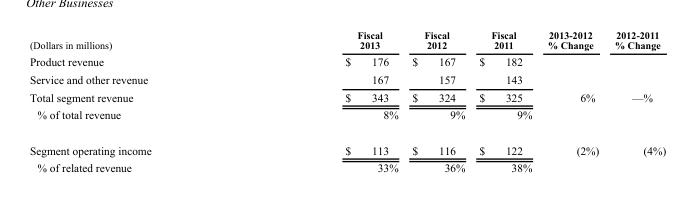table: (28, 28, 665, 173)
table column: (28, 28, 247, 173), (247, 28, 404, 173), (471, 28, 539, 173), (404, 28, 471, 173), (539, 28, 606, 173), (606, 28, 665, 173)
table column header: (28, 28, 665, 52)
table row: (28, 105, 665, 132), (28, 132, 665, 158), (28, 28, 665, 52), (28, 52, 665, 70), (28, 70, 665, 88), (28, 88, 665, 105), (28, 158, 665, 173)
